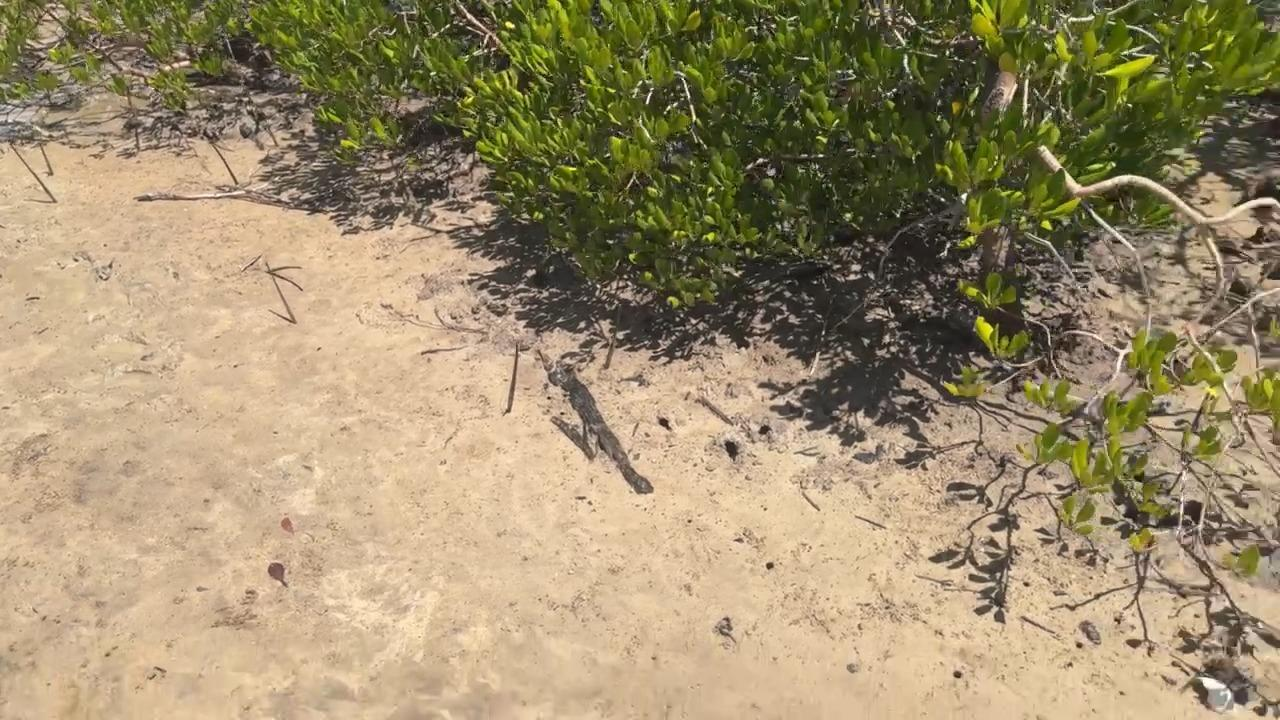Tree: (7, 138, 60, 204), (264, 259, 298, 325), (602, 302, 625, 368), (504, 341, 523, 411), (209, 144, 239, 186), (257, 115, 280, 147), (37, 141, 56, 176)
